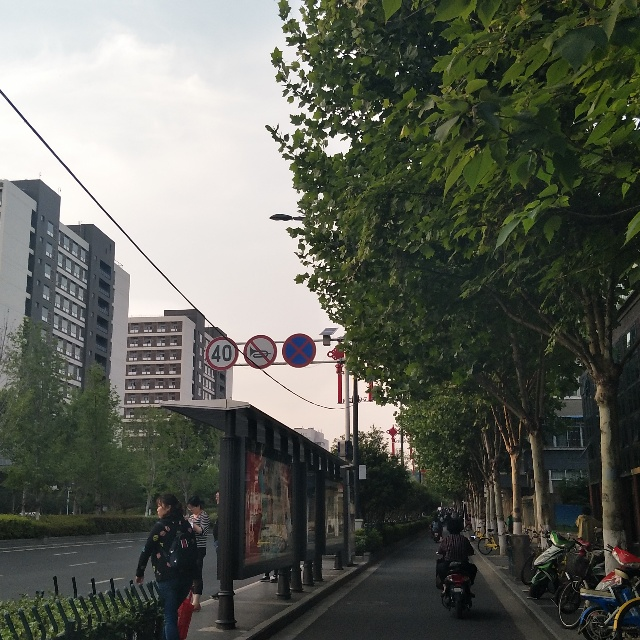nohonk: (244, 333, 280, 372)
stop: (282, 333, 320, 373)
